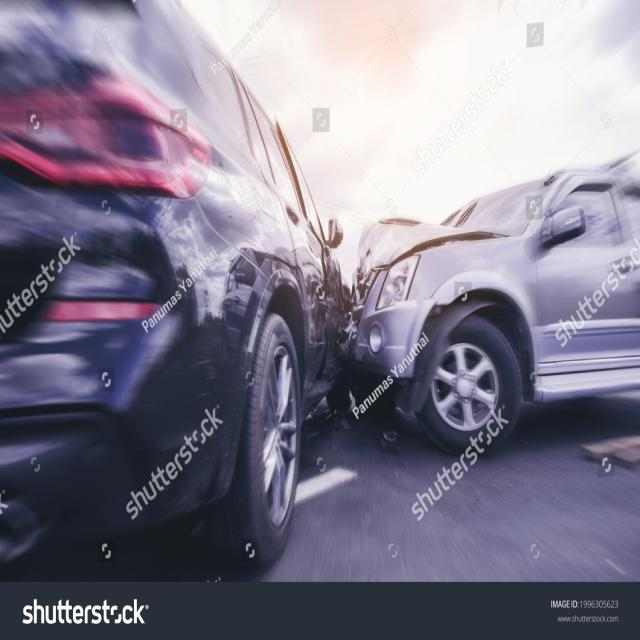crush: (346, 215, 512, 361), (275, 119, 349, 396)
